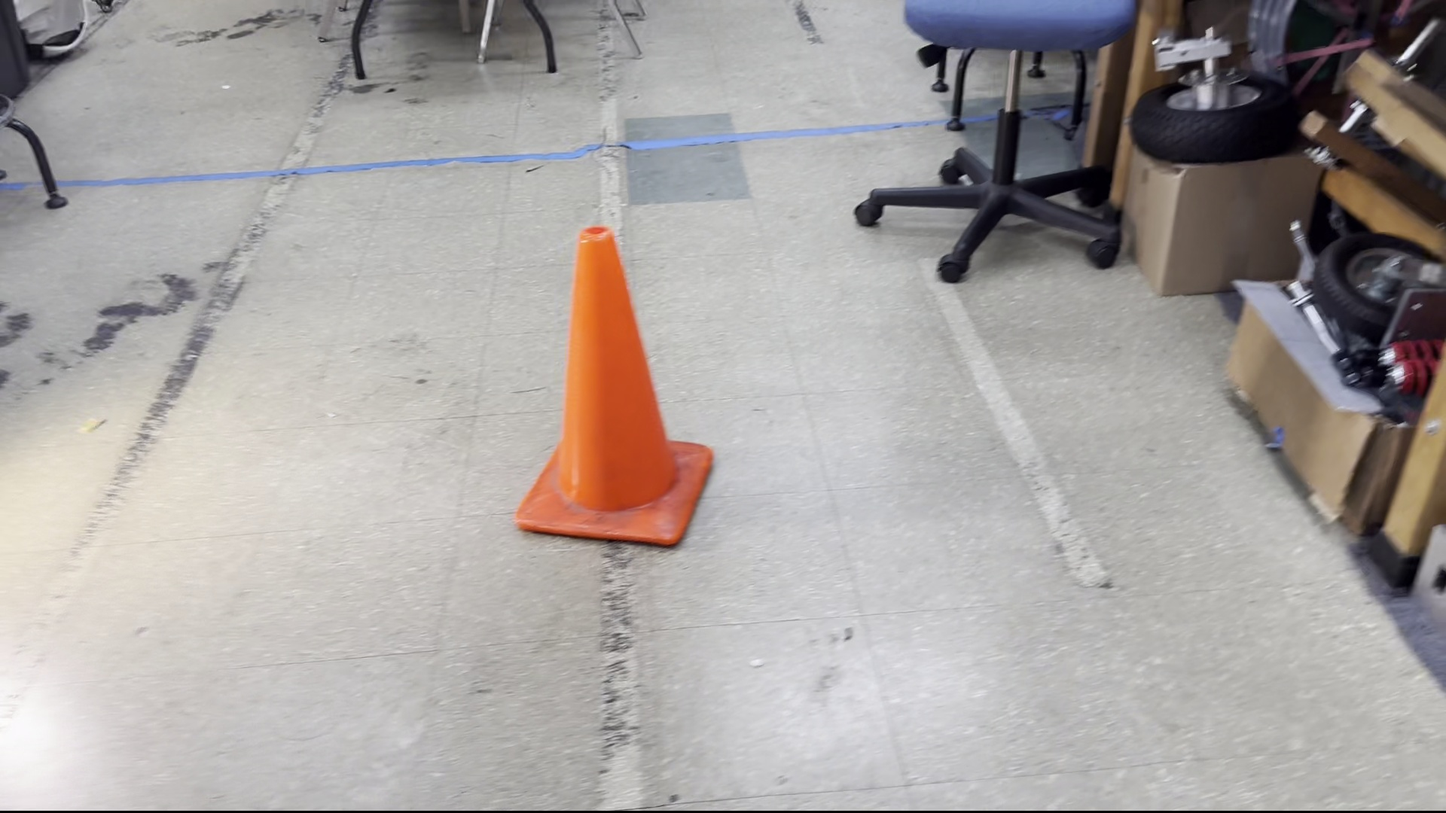traffic_cone: (513, 224, 714, 548)
